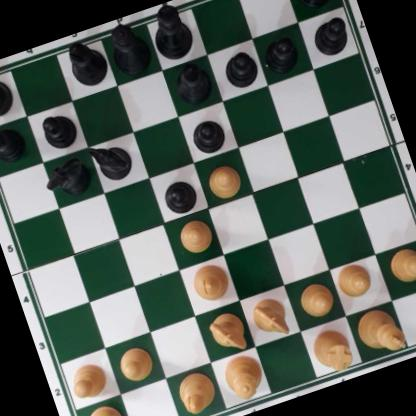black-bishop: (62, 34, 112, 90), (169, 58, 217, 108)
black-king: (147, 0, 199, 65)
black-knight: (86, 136, 136, 185), (44, 153, 94, 202)
black-pawn: (308, 13, 353, 60), (37, 107, 79, 152), (187, 114, 230, 157), (159, 175, 201, 218), (260, 33, 302, 76), (220, 48, 261, 91), (0, 122, 30, 167)
black-queen: (103, 17, 156, 78)
black-rook: (0, 62, 19, 126), (285, 0, 343, 12)
white-bishop: (172, 367, 219, 416), (188, 258, 233, 305)
white-king: (353, 303, 407, 361)
white-knight: (247, 293, 292, 341), (206, 310, 251, 357)
white-pawn: (64, 358, 112, 403), (114, 342, 157, 385), (333, 258, 375, 302), (174, 213, 216, 256), (203, 160, 245, 201), (296, 278, 337, 320), (385, 243, 416, 285)
white-queen: (219, 348, 268, 407)
white-rook: (308, 325, 357, 376), (74, 400, 130, 416)
